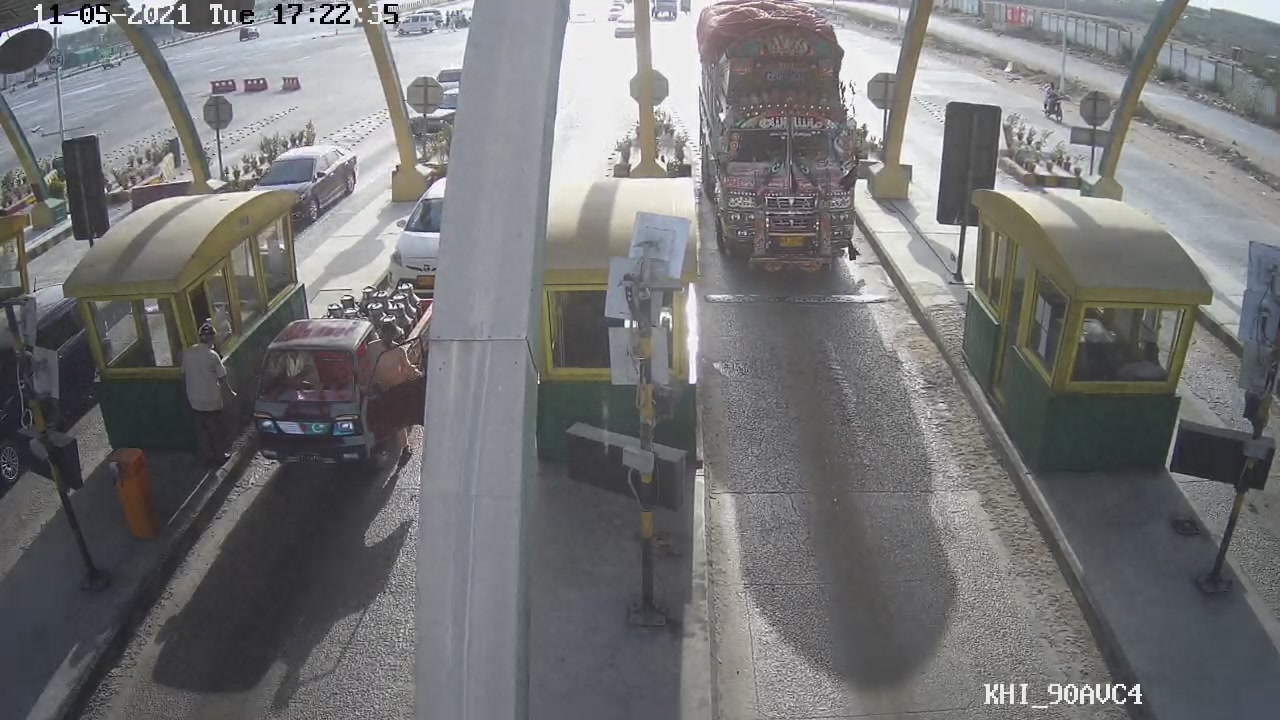F5: (686, 1, 872, 280)
